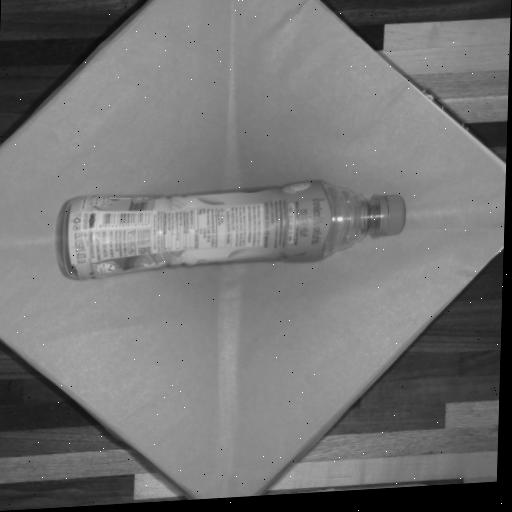bottle: (64, 182, 404, 279)
